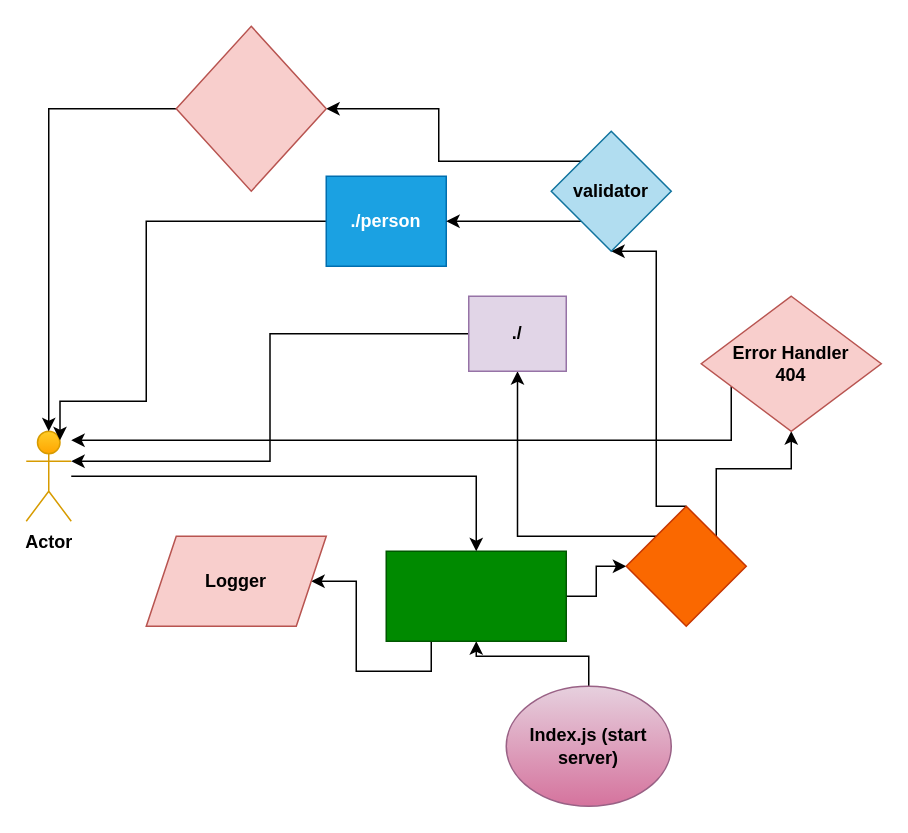
This 908x833 diagram has some shape labels left out. The centre of each missing label's shape, as x and y in pixels:
Error Handler 500: pixel 250 108
Rout: pixel 685 565
Server.js: pixel 475 595
